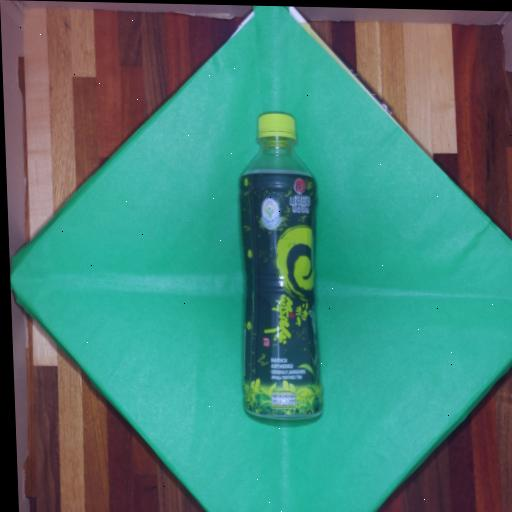bottle: (239, 113, 321, 418)
